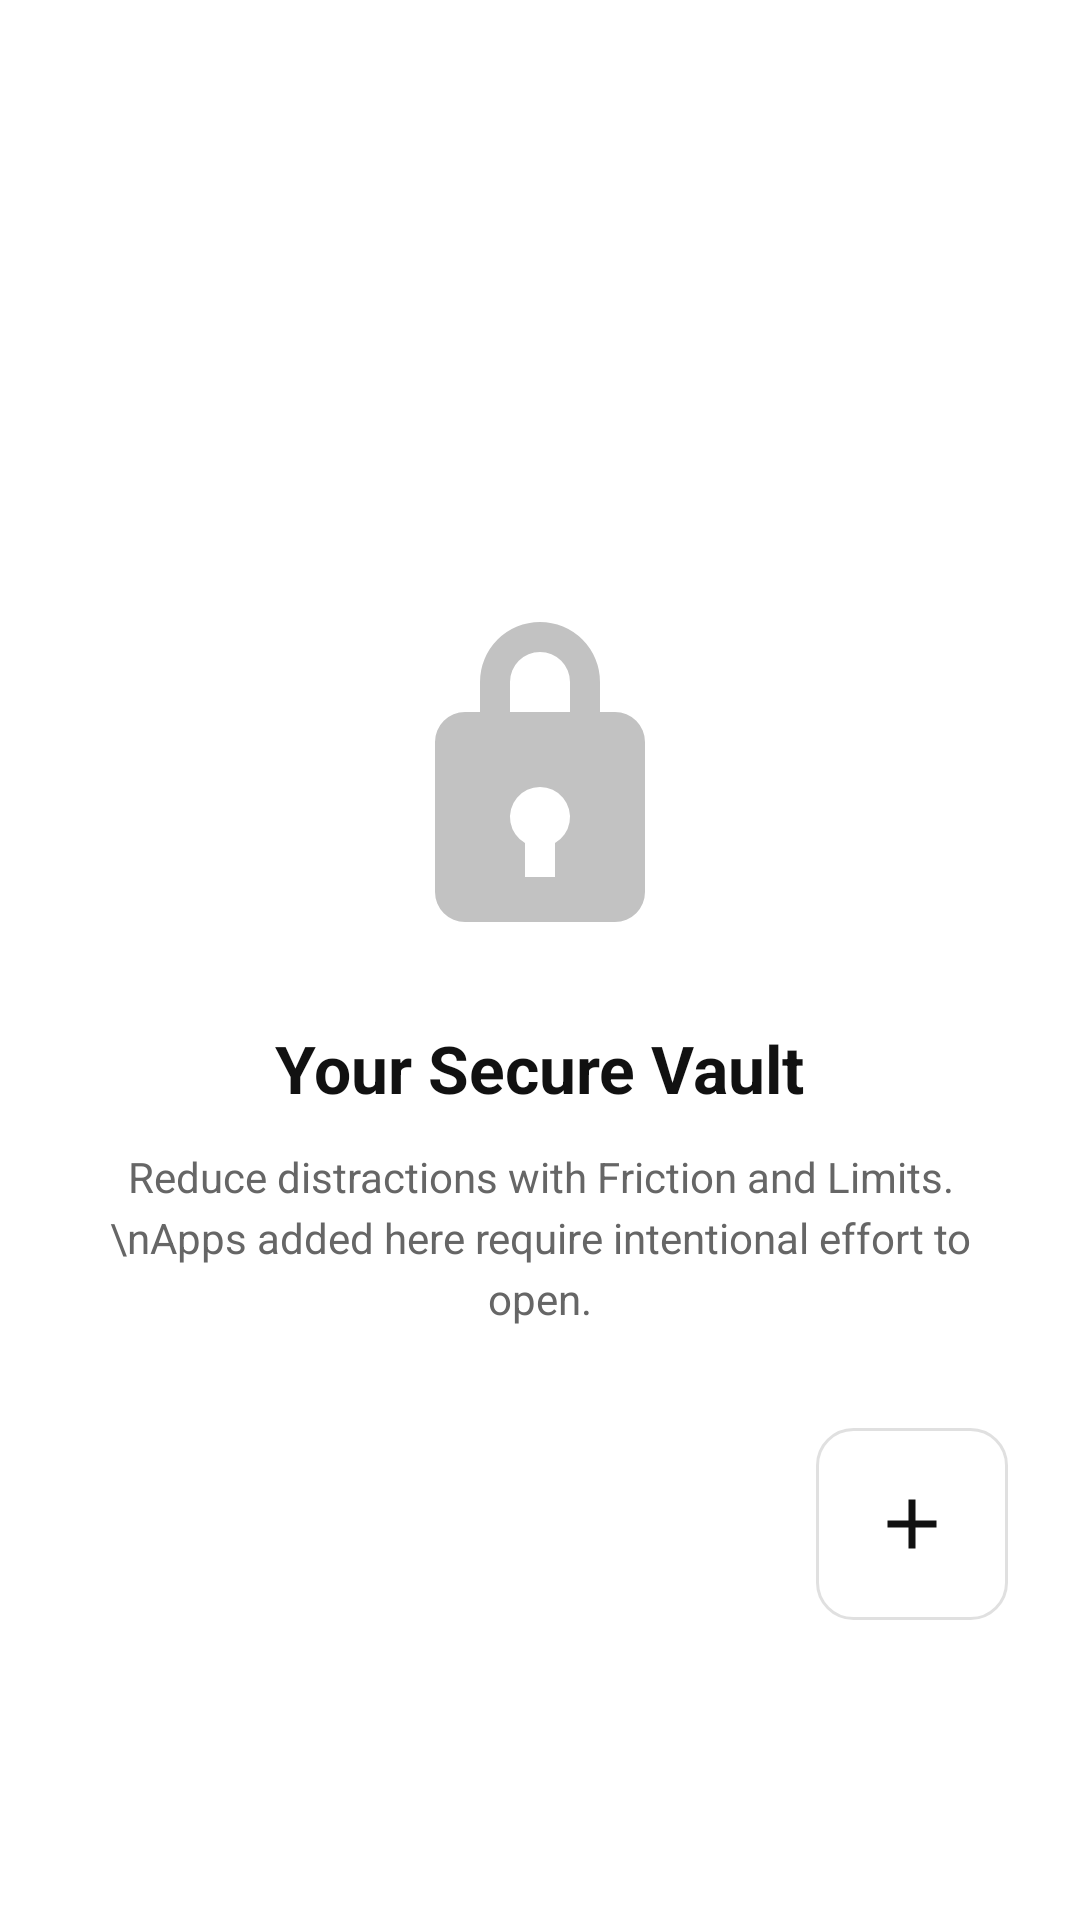

Icons on this 1080 × 1920 Android screen, each with its box as [x1,y1,x2,y2]:
Add to vault: [816,1428,1008,1620]
lock: [435,622,645,922]
